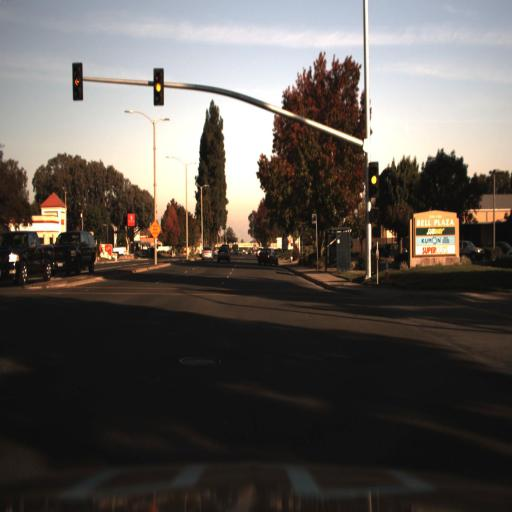car: (0, 230, 50, 288), (49, 226, 99, 276), (254, 242, 277, 265), (215, 241, 233, 267), (197, 244, 213, 264)
trafficLight-RedLeft: (70, 60, 86, 108)
trafficLight-Yellow: (151, 67, 167, 107), (367, 160, 379, 197)
